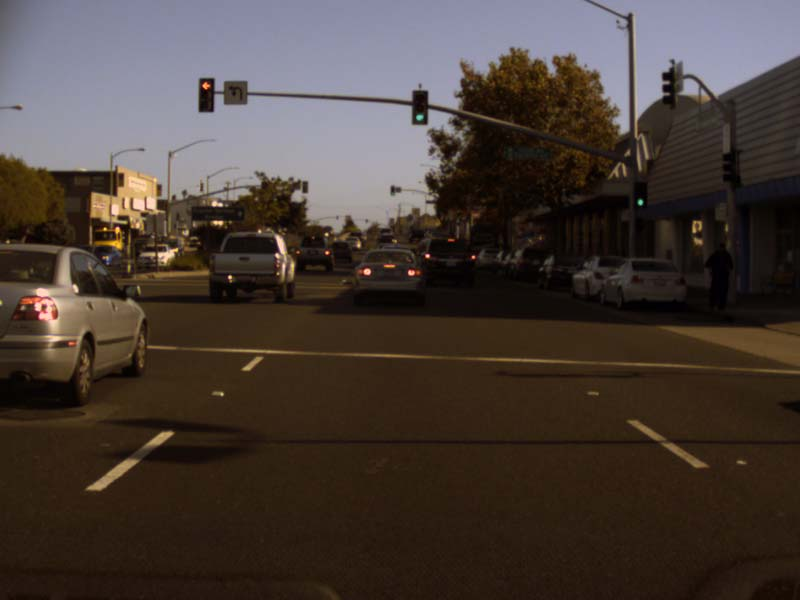Green: (412, 90, 426, 123), (634, 182, 645, 207), (390, 186, 394, 195)
Red: (198, 78, 213, 111)
